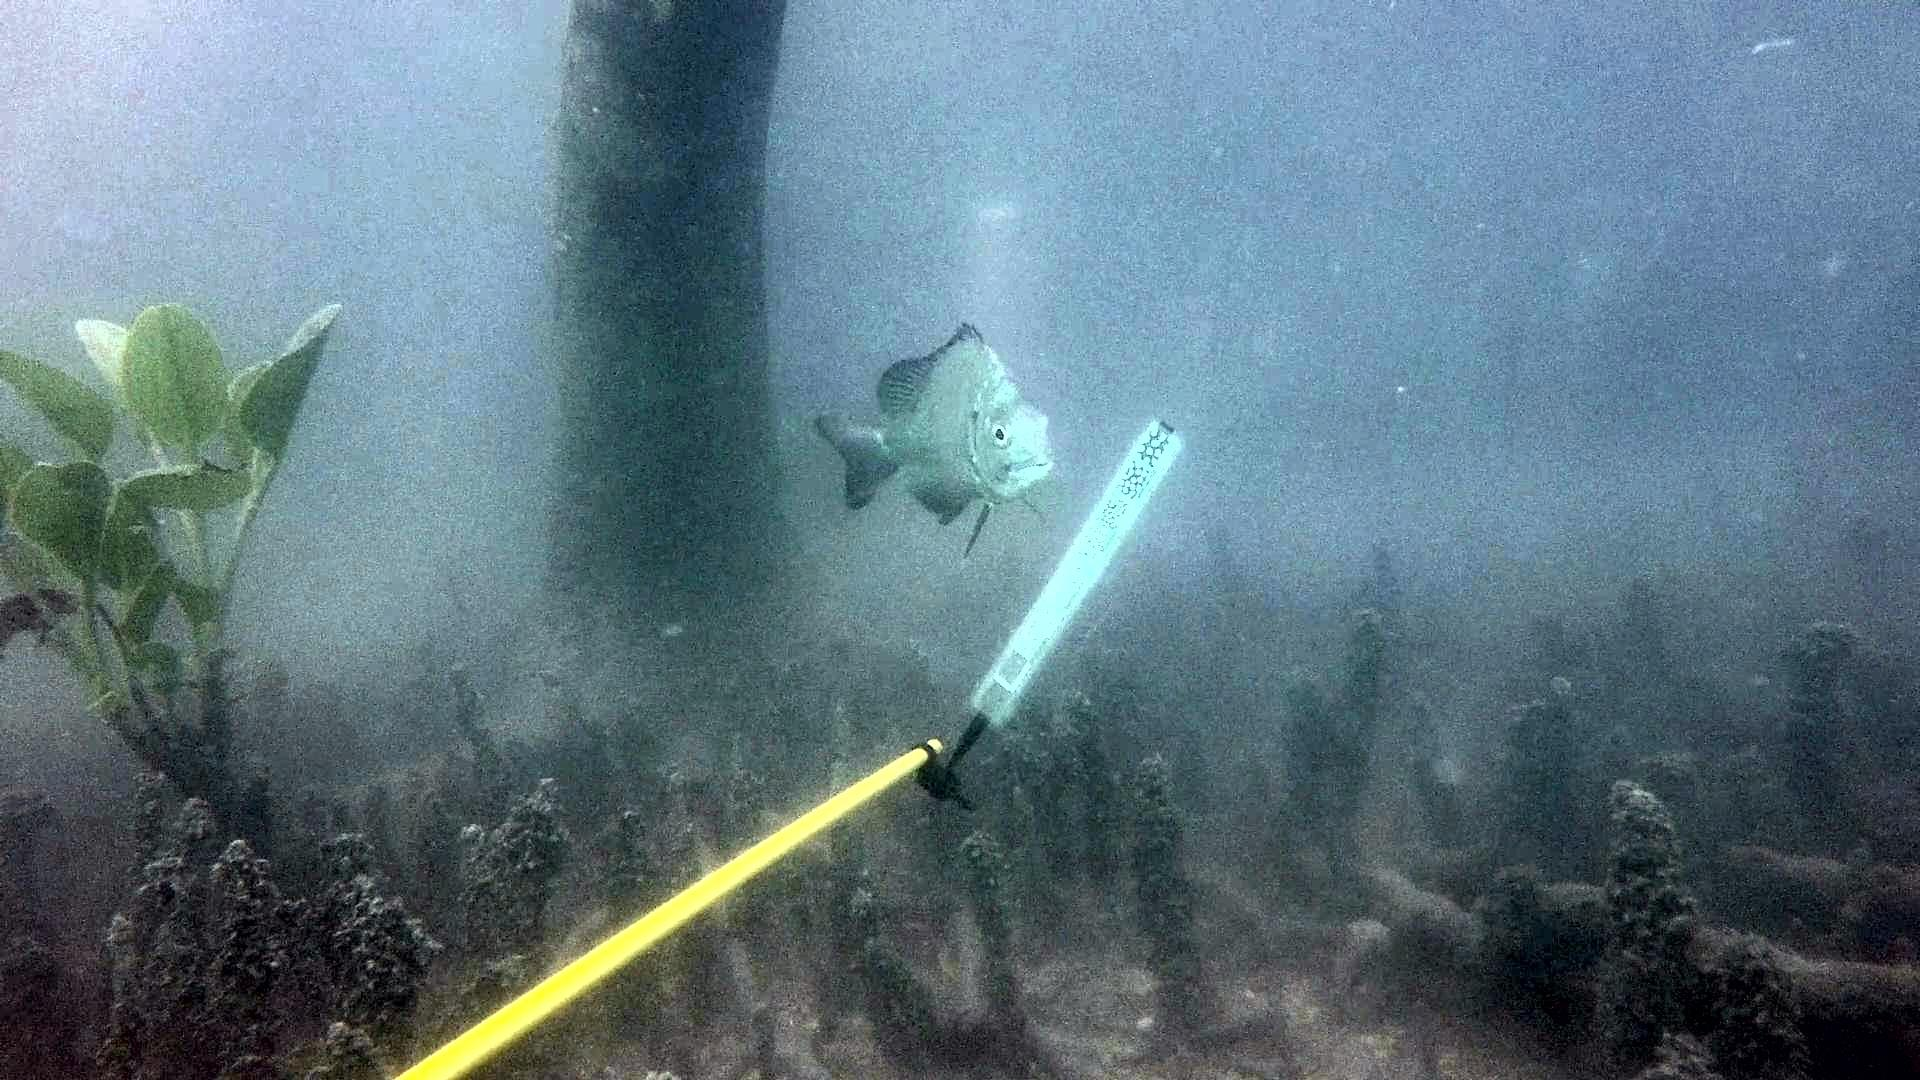acanthopagrus palmaris: (808, 316, 1064, 570)
